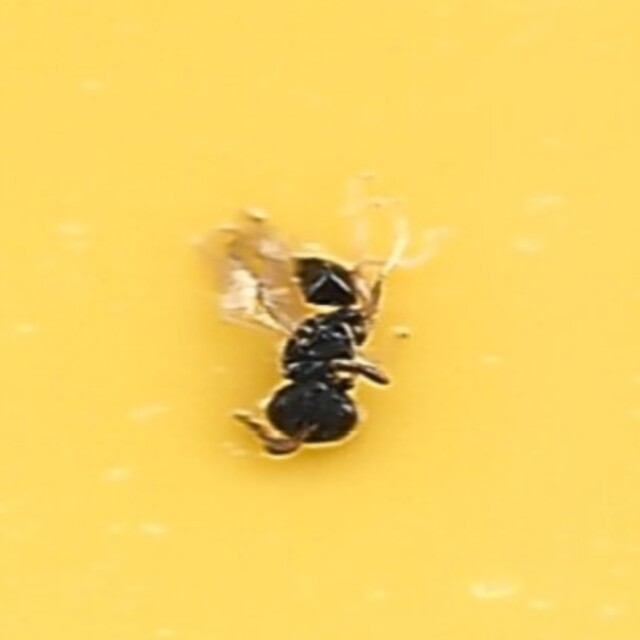Hymenoptera: (204, 177, 436, 463)
